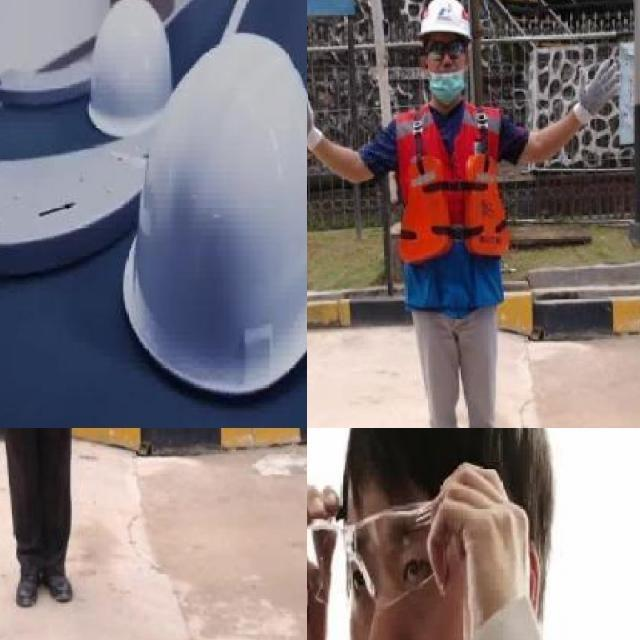apron: (574, 57, 622, 126), (307, 79, 323, 154)
